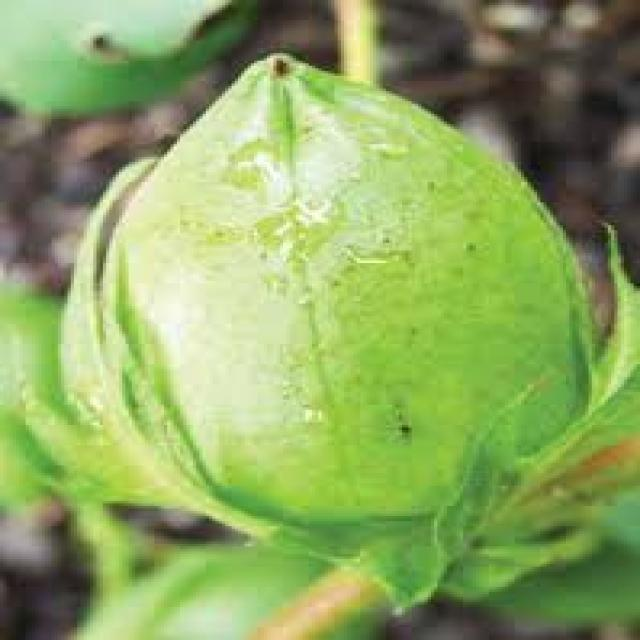Early Boll: (35, 52, 610, 578)
